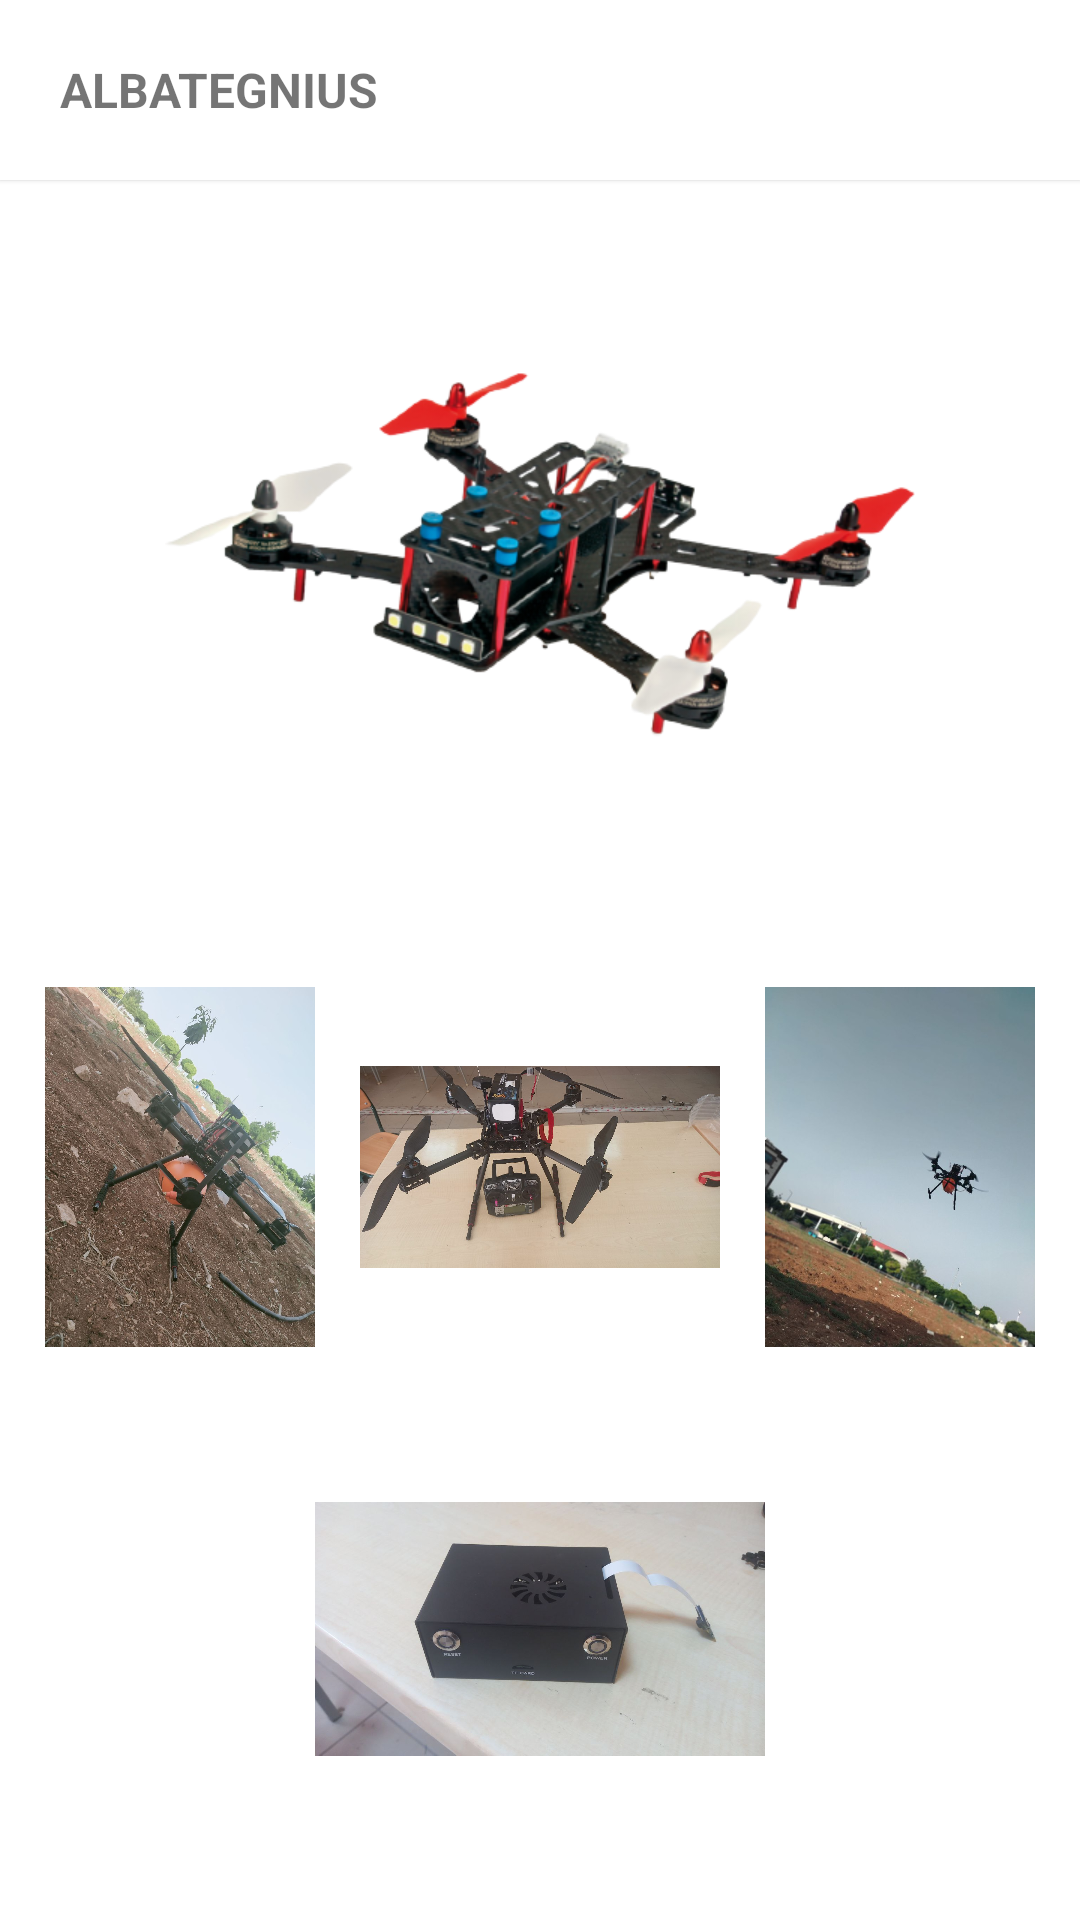

Named icons in this screenshot (1080px x 1920px) and their centers, [x,y]:
dronecanli: [180,1167], [900,1167], [540,1167]
